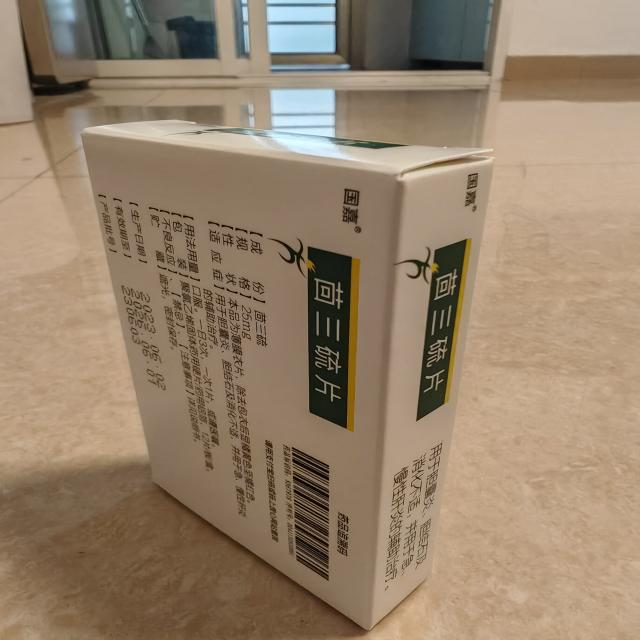box: (77, 111, 505, 637)
